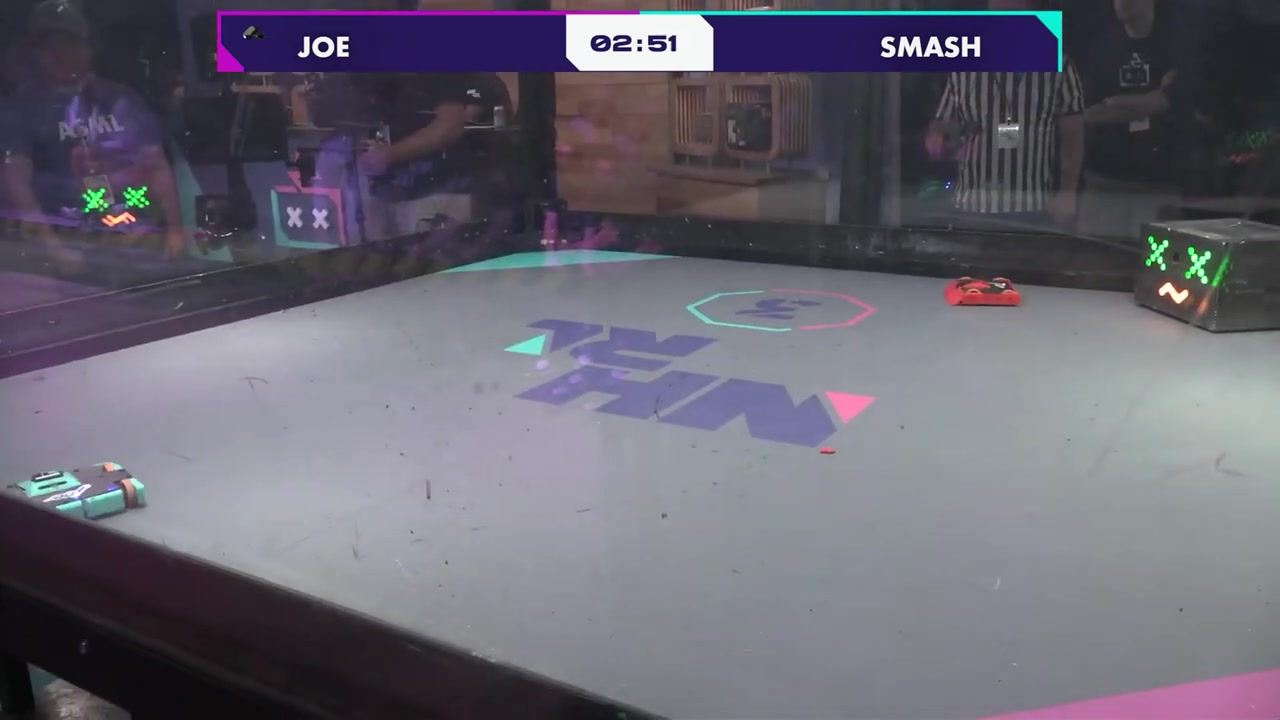combatbot: (8, 461, 148, 521), (941, 276, 1023, 310)
housebot: (1132, 217, 1280, 334)
